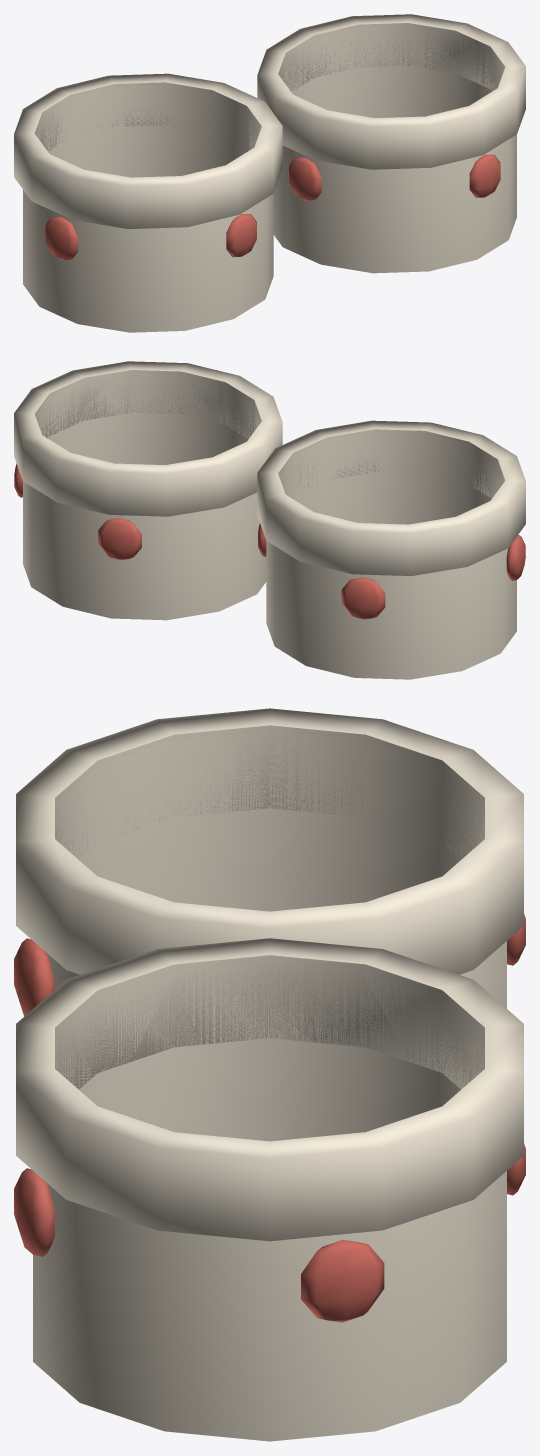
The model's file is argyle_crew_socks.glb.
The picture shows the model from 3 angles, top to bottom: view 1: azimuth 30°, elevation 25°; view 2: azimuth 150°, elevation 25°; view 3: azimuth 270°, elevation 25°; orthographic projection. The views are drawn at different scales.
Visible parts, largest first — view 1: argyle_crew_socks_LegL, argyle_crew_socks_LegR; view 2: argyle_crew_socks_LegL, argyle_crew_socks_LegR; view 3: argyle_crew_socks_LegR, argyle_crew_socks_LegL.
Boxes of the visible parts, x1=… form: argyle_crew_socks_LegL: x1=14, y1=73, x2=282, y2=332; argyle_crew_socks_LegR: x1=257, y1=14, x2=525, y2=273; argyle_crew_socks_LegL: x1=257, y1=420, x2=525, y2=679; argyle_crew_socks_LegR: x1=14, y1=361, x2=282, y2=620; argyle_crew_socks_LegR: x1=14, y1=938, x2=525, y2=1441; argyle_crew_socks_LegL: x1=14, y1=708, x2=525, y2=1016.
Bounding box in the file's own units: 0.372 × 0.112 × 0.1789.
